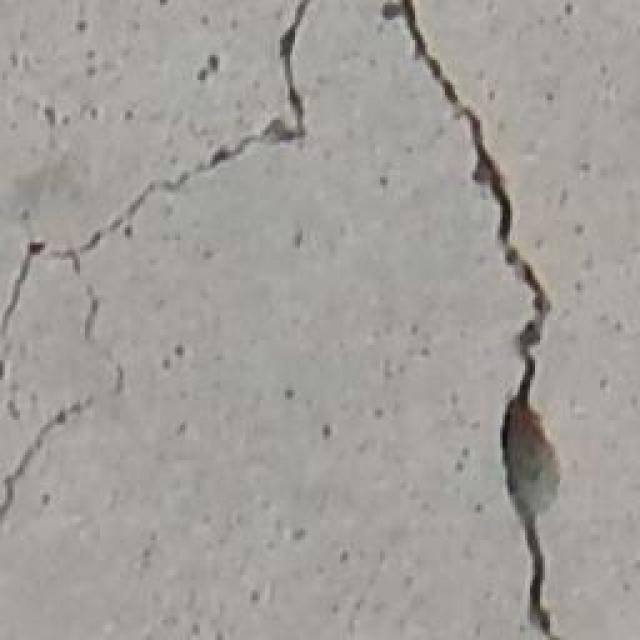concrete-crack: (385, 4, 562, 639), (0, 0, 312, 338), (0, 400, 90, 522), (80, 285, 102, 340), (112, 348, 128, 398)
